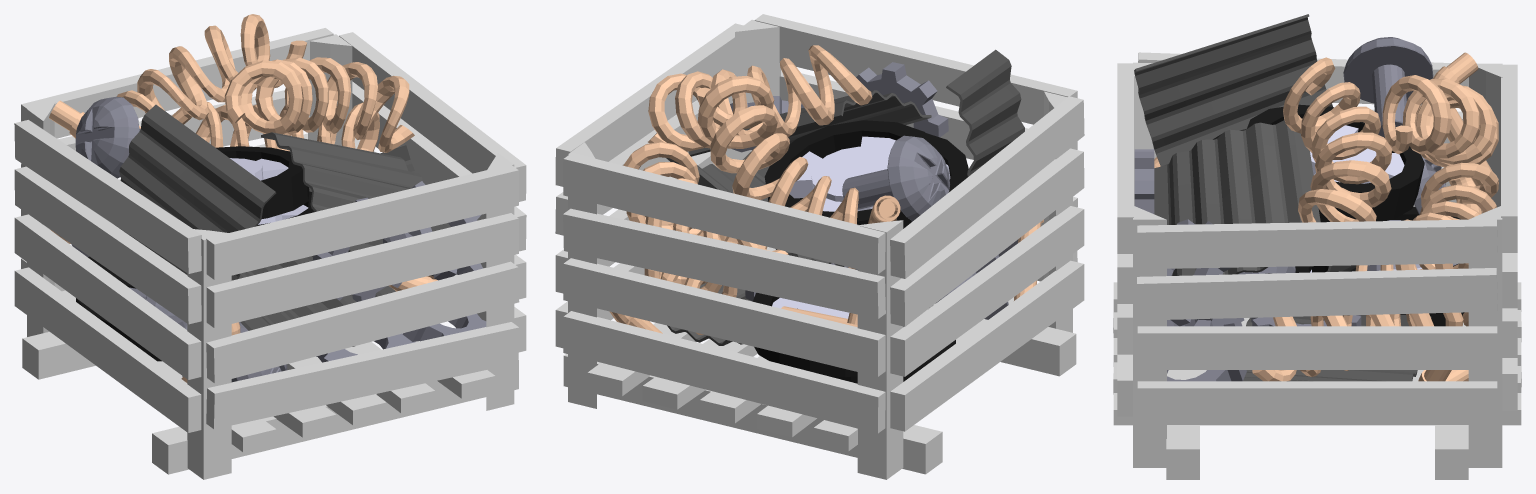
File: hoard.fbx
3 views of the same model, side by side, from view 1: azimuth 30°, elevation 25°; view 2: azimuth 150°, elevation 25°; view 3: azimuth 270°, elevation 25° (orthographic). The views are drawn at different scales.
Visible parts, largest first — view 1: Cube.078, Cube.080, Cube.079, Cube.077, Full_Wall.003, Full_Spring.002, Cube.072, Cube.071, Cube.069, Cube.070, Full_Wall.002, Full_Spring.003 (+25 smaller); view 2: Cube.073, Cube.076, Cube.075, Cube.074, Cube.069, Cube.072, Cube.071, Cube.070, Full_Spring.003, Full_Spring.002, Cube.080, Cube.068 (+28 smaller); view 3: Cube.068, Cube.067, Cube.065, Cube.066, Full_Wall.003, Full_Wall.002, Full_Spring.002, Full_Spring.003, Full_Bolt.002, 3/4_Spring.001, Cube.062, Cube.061 (+26 smaller).
Boxes of the visible parts, bbox=[...] form: Cube.078: bbox=[206, 261, 519, 383]; Cube.080: bbox=[206, 164, 518, 279]; Cube.079: bbox=[206, 213, 518, 327]; Cube.077: bbox=[206, 322, 519, 429]; Full_Wall.003: bbox=[119, 104, 276, 280]; Full_Spring.002: bbox=[224, 57, 414, 152]; Cube.072: bbox=[14, 267, 201, 432]; Cube.071: bbox=[14, 214, 201, 379]; Cube.069: bbox=[14, 120, 201, 273]; Cube.070: bbox=[14, 166, 201, 324]; Full_Wall.002: bbox=[261, 132, 446, 276]; Full_Spring.003: bbox=[117, 14, 306, 128]; Cube.073: bbox=[563, 153, 885, 274]; Cube.076: bbox=[563, 311, 885, 433]; Cube.075: bbox=[563, 258, 885, 376]; Cube.074: bbox=[563, 208, 885, 318]; Cube.069: bbox=[890, 96, 1084, 278]; Cube.072: bbox=[890, 260, 1084, 431]; Cube.071: bbox=[890, 206, 1084, 376]; Cube.070: bbox=[890, 148, 1084, 326]; Full_Spring.003: bbox=[696, 75, 858, 269]; Full_Spring.002: bbox=[648, 45, 872, 151]; Cube.080: bbox=[754, 14, 1077, 124]; Cube.068: bbox=[555, 23, 743, 186]; Cube.068: bbox=[1137, 219, 1497, 269]; Cube.067: bbox=[1137, 268, 1497, 320]; Cube.065: bbox=[1137, 381, 1497, 424]; Cube.066: bbox=[1137, 326, 1497, 369]; Full_Wall.003: bbox=[1134, 14, 1332, 166]; Full_Wall.002: bbox=[1154, 120, 1320, 275]; Full_Spring.002: bbox=[1283, 57, 1392, 222]; Full_Spring.003: bbox=[1382, 75, 1498, 167]; Full_Bolt.002: bbox=[1343, 37, 1433, 137]; 3/4_Spring.001: bbox=[1355, 162, 1498, 271]; Cube.062: bbox=[1468, 206, 1502, 467]; Cube.061: bbox=[1133, 206, 1166, 467].
Bounding box in the file's own units: 894 × 917 × 792.
